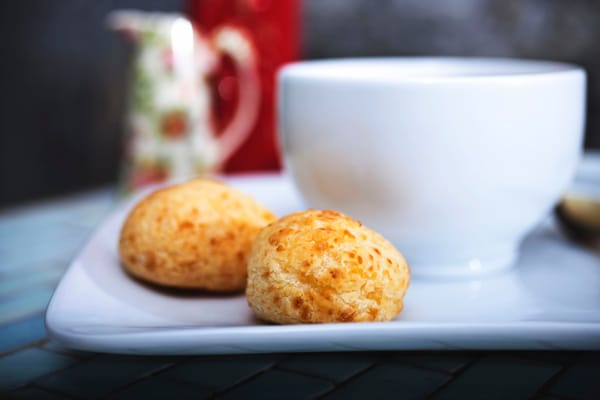pizza: (102, 4, 270, 199)
